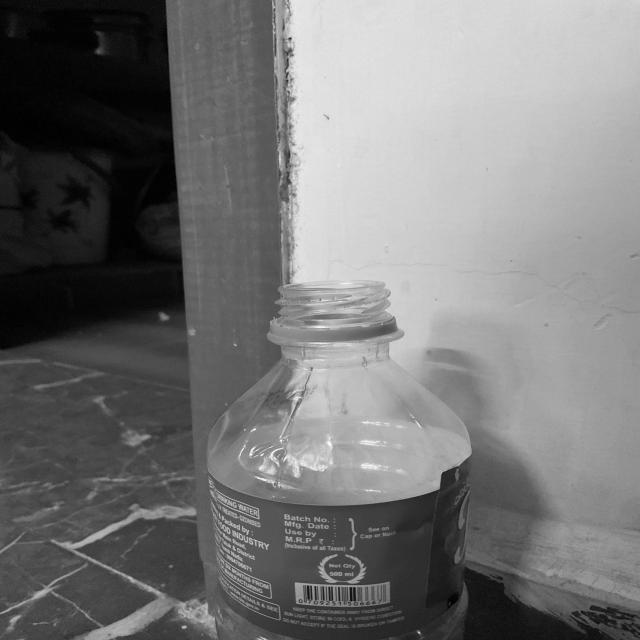open-cap: (271, 282, 399, 339)
